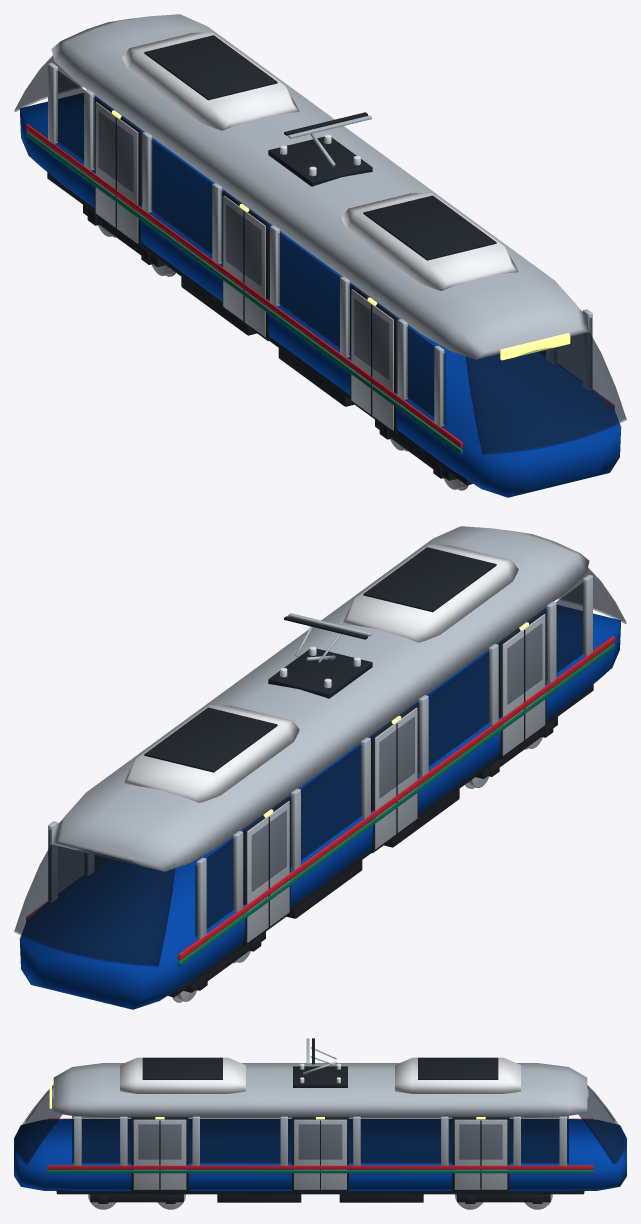
The model's file is lrt_train.glb.
3 renders of one model, top to bottom at view 1: azimuth 30°, elevation 25°; view 2: azimuth 150°, elevation 25°; view 3: azimuth 270°, elevation 25°, orthographic. The views are drawn at different scales.
Visible parts, largest first — view 1: LRT_Roof_Fuselage, LRT_Lower_Fuselage, LRT_SideGlass_L, LRT_Front_CabGlass, LRT_HVAC_+3.6, LRT_HVAC_-3.6, LRT_HVAC_Vent_-3.6, LRT_HVAC_Vent_+3.6, LRT_DoorLeaf_L_2, LRT_DoorLeaf_L_1, LRT_DoorLeaf_L_0, LRT_Red_Stripe_L (+22 smaller); view 2: LRT_Roof_Fuselage, LRT_Lower_Fuselage, LRT_Rear_CabGlass, LRT_SideGlass_L, LRT_HVAC_-3.6, LRT_HVAC_+3.6, LRT_HVAC_Vent_+3.6, LRT_HVAC_Vent_-3.6, LRT_DoorLeaf_L_0, LRT_DoorLeaf_L_1, LRT_DoorLeaf_L_2, LRT_Red_Stripe_L (+21 smaller); view 3: LRT_Lower_Fuselage, LRT_Roof_Fuselage, LRT_SideGlass_R, LRT_DoorLeaf_R_0, LRT_DoorLeaf_R_2, LRT_DoorLeaf_R_1, LRT_Red_Stripe_R, LRT_HVAC_+3.6, LRT_HVAC_-3.6, LRT_Emerald_Stripe_R, LRT_Underframe, LRT_HVAC_Vent_+3.6 (+23 smaller).
Part boxes in pixels (x1,y1,x2,y2): LRT_Roof_Fuselage: (51, 14, 589, 359); LRT_Lower_Fuselage: (20, 93, 621, 497); LRT_SideGlass_L: (56, 70, 445, 424); LRT_Front_CabGlass: (466, 323, 626, 454); LRT_HVAC_+3.6: (122, 32, 299, 130); LRT_HVAC_-3.6: (341, 193, 518, 290); LRT_HVAC_Vent_-3.6: (363, 195, 496, 260); LRT_HVAC_Vent_+3.6: (144, 35, 277, 100); LRT_DoorLeaf_L_2: (95, 102, 138, 243); LRT_DoorLeaf_L_1: (223, 195, 265, 337); LRT_DoorLeaf_L_0: (351, 289, 393, 430); LRT_Red_Stripe_L: (26, 124, 462, 448); LRT_Roof_Fuselage: (51, 526, 589, 871); LRT_Lower_Fuselage: (19, 605, 620, 1009); LRT_Rear_CabGlass: (14, 844, 174, 966); LRT_SideGlass_L: (195, 582, 584, 936); LRT_HVAC_-3.6: (341, 544, 518, 642); LRT_HVAC_+3.6: (122, 705, 299, 802); LRT_HVAC_Vent_+3.6: (144, 707, 277, 772); LRT_HVAC_Vent_-3.6: (363, 547, 496, 612); LRT_DoorLeaf_L_0: (502, 614, 545, 755); LRT_DoorLeaf_L_1: (375, 707, 417, 849); LRT_DoorLeaf_L_2: (247, 801, 289, 942); LRT_Red_Stripe_L: (178, 636, 614, 960); LRT_Lower_Fuselage: (14, 1119, 626, 1191); LRT_Roof_Fuselage: (53, 1063, 587, 1117); LRT_SideGlass_R: (72, 1118, 568, 1163); LRT_DoorLeaf_R_0: (133, 1119, 186, 1189); LRT_DoorLeaf_R_2: (454, 1119, 507, 1189); LRT_DoorLeaf_R_1: (294, 1119, 346, 1189); LRT_Red_Stripe_R: (47, 1165, 593, 1169); LRT_HVAC_+3.6: (395, 1057, 520, 1093); LRT_HVAC_-3.6: (120, 1057, 245, 1093); LRT_Emerald_Stripe_R: (47, 1170, 593, 1173); LRT_Underframe: (56, 1190, 584, 1194); LRT_HVAC_Vent_+3.6: (418, 1057, 498, 1079).
Bounding box in the file's own units: 2.93 × 4.26 × 16.04.
